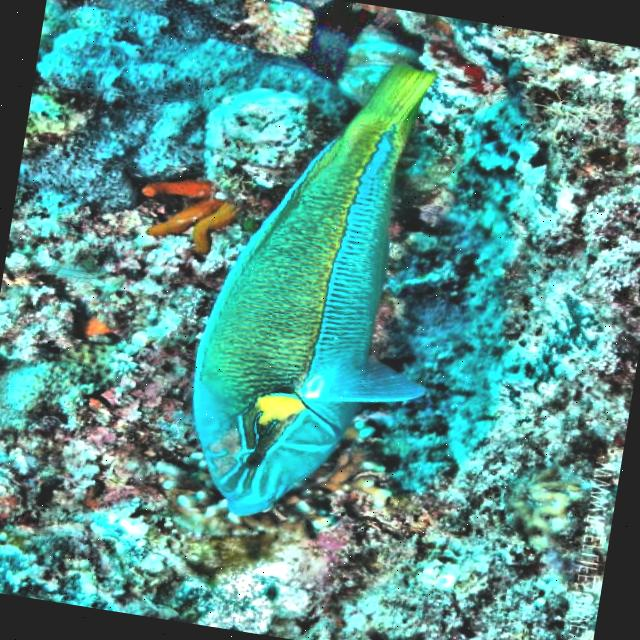fish: (173, 38, 476, 536)
